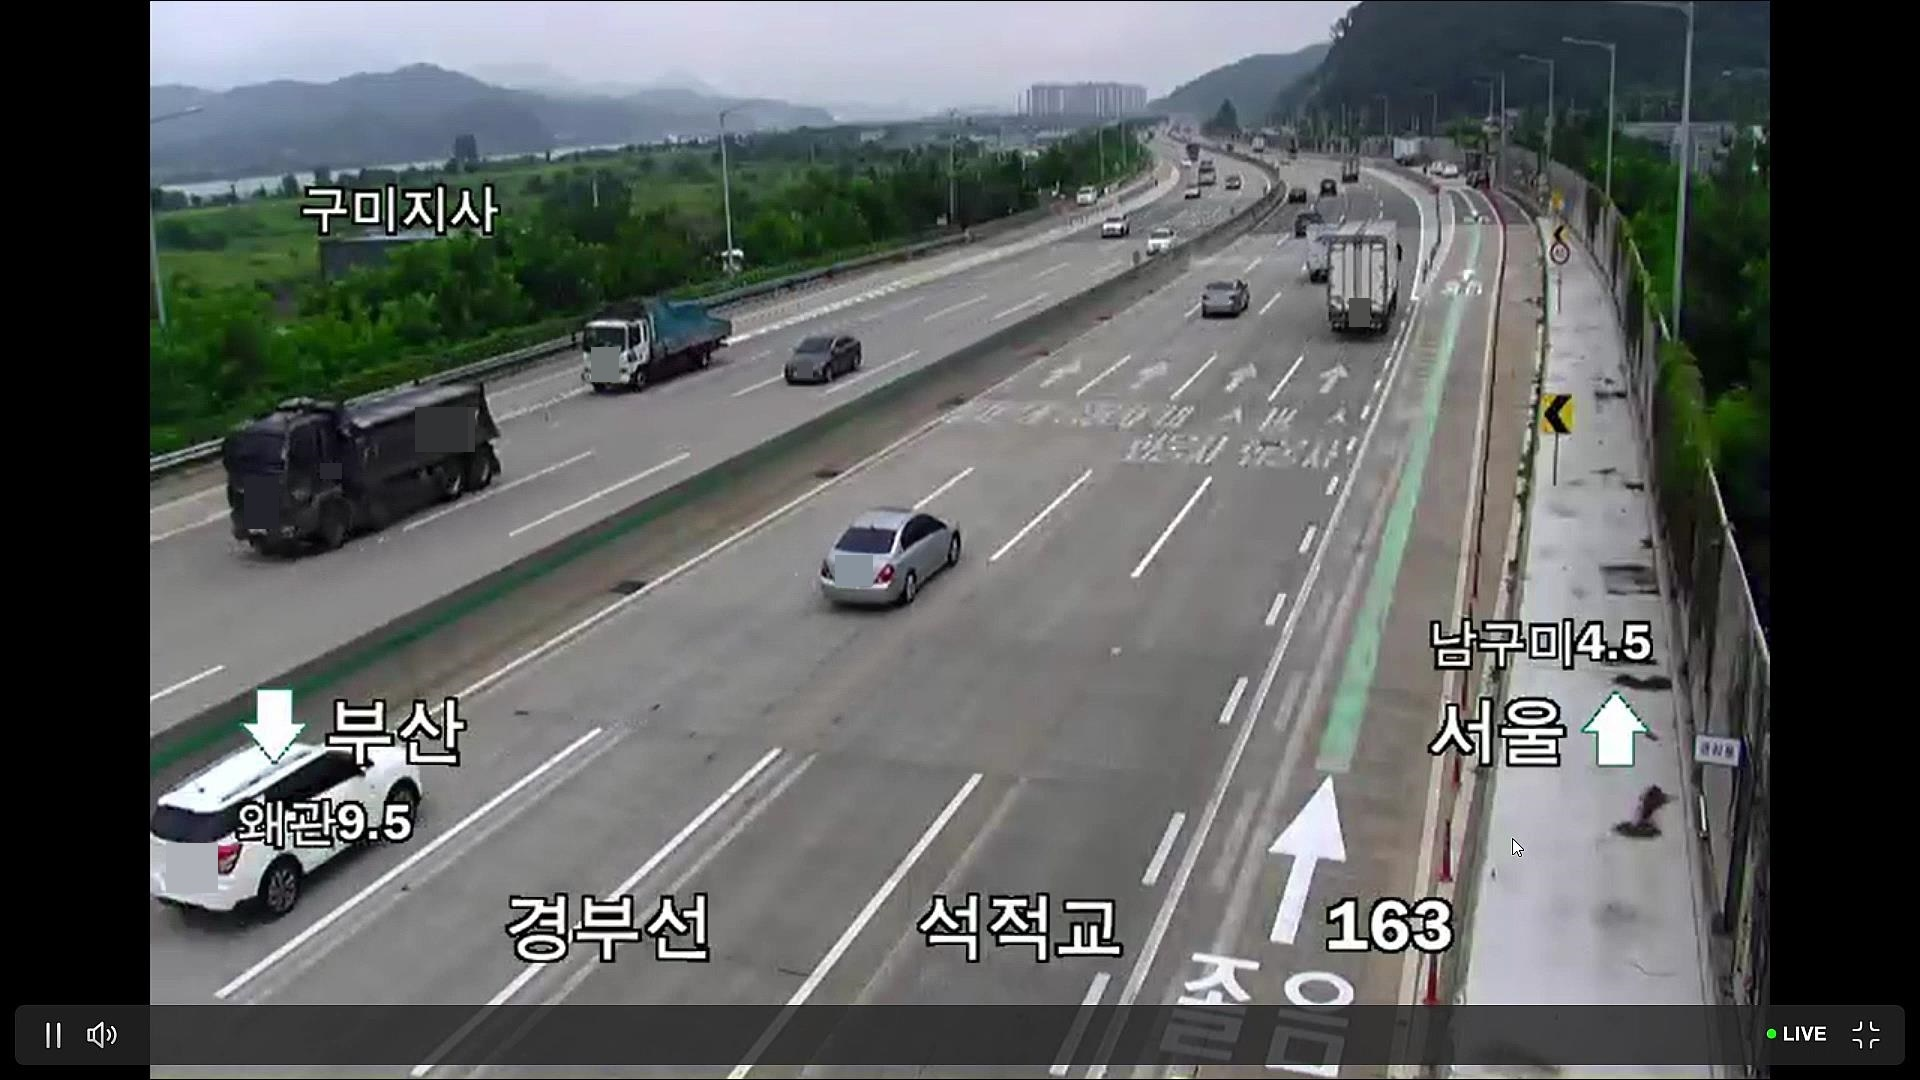정상차량: (223, 378, 502, 553)
